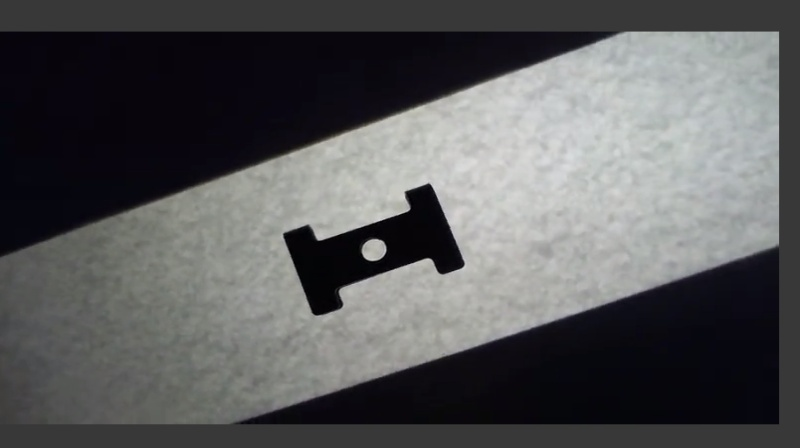O002: (282, 181, 468, 317)
